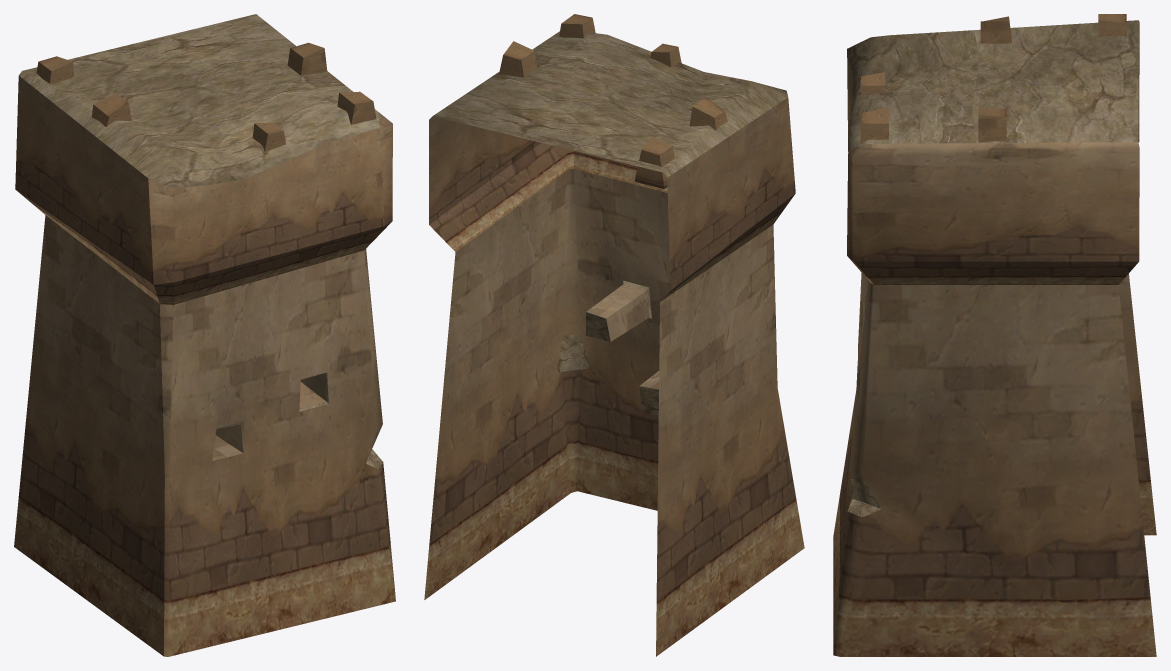
File: environment_Building_shamofeiqijianzhu_01_d.FBX
3 views of the same model, side by side, from view 1: azimuth 30°, elevation 25°; view 2: azimuth 150°, elevation 25°; view 3: azimuth 270°, elevation 25° (orthographic). The views are drawn at different scales.
Visible parts, largest first — view 1: environment_Building_shamofeiqijianzhu_01_d; view 2: environment_Building_shamofeiqijianzhu_01_d; view 3: environment_Building_shamofeiqijianzhu_01_d.
Boxes of the visible parts, x1,y1,x2,y2 form: environment_Building_shamofeiqijianzhu_01_d: [14, 14, 395, 656]; environment_Building_shamofeiqijianzhu_01_d: [424, 14, 804, 656]; environment_Building_shamofeiqijianzhu_01_d: [833, 14, 1156, 656].
Bounding box in the file's own units: 339 × 671 × 365.
